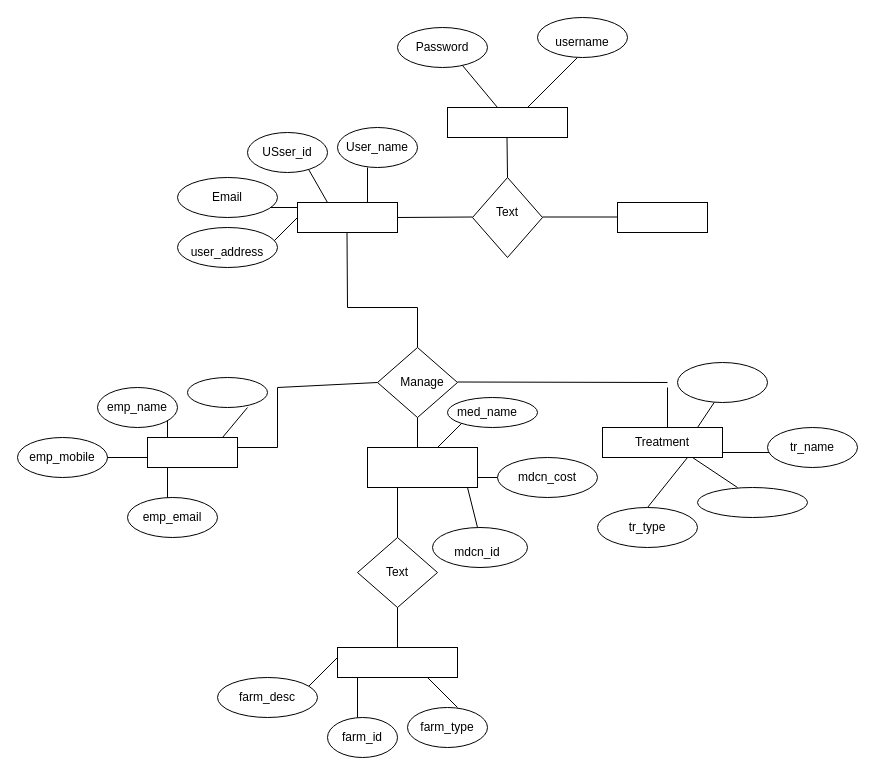
Image size: 875x775. Some labels were removed from this diagram. Here are the shapes that lost their labels. From the top down, the centre of each, then its label:
At [507,122]: "LOGIN".
At [347,217]: "user".
At [662,217]: "Role".
At [227,392]: "emp_id".
At [722,382]: "tr_id".
At [192,452]: "Employee".
At [422,467]: "medicine".
At [752,502]: "tr_desc".
At [397,662]: "Farm".
